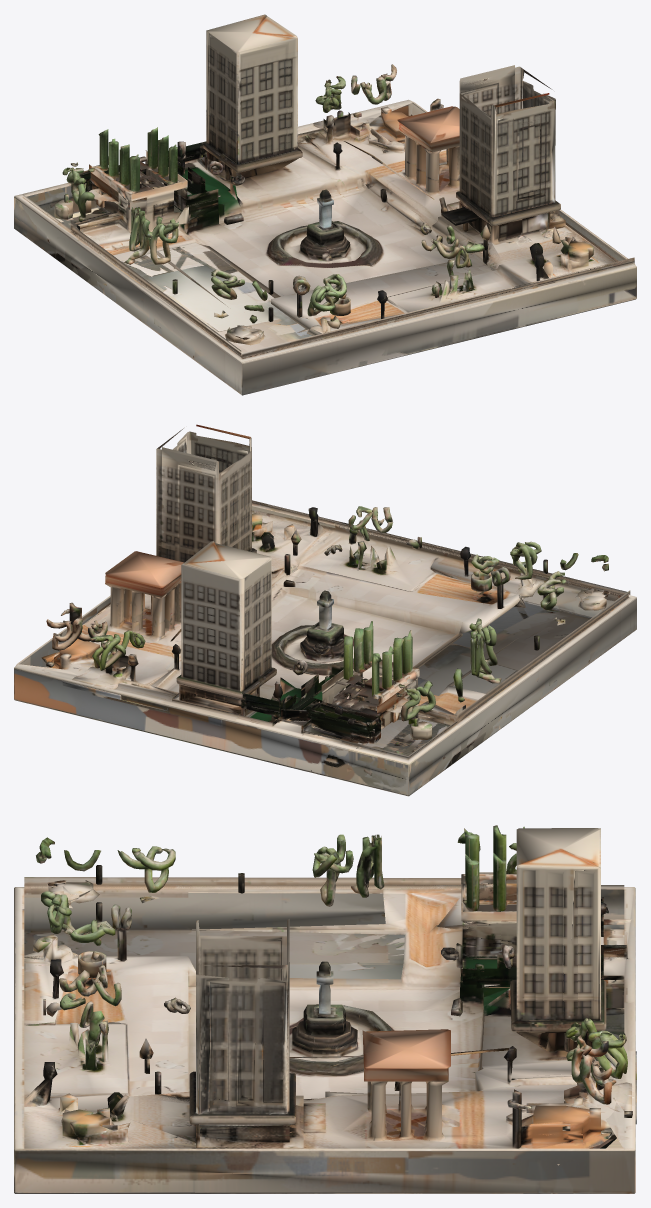
3 renders of one model, top to bottom at view 1: azimuth 30°, elevation 25°; view 2: azimuth 150°, elevation 25°; view 3: azimuth 270°, elevation 25°, orthographic. The views are drawn at different scales.
Size of the model in its own units: 1.9 by 0.7593 by 1.9.
Materials: 1 (1 with a texture image).
